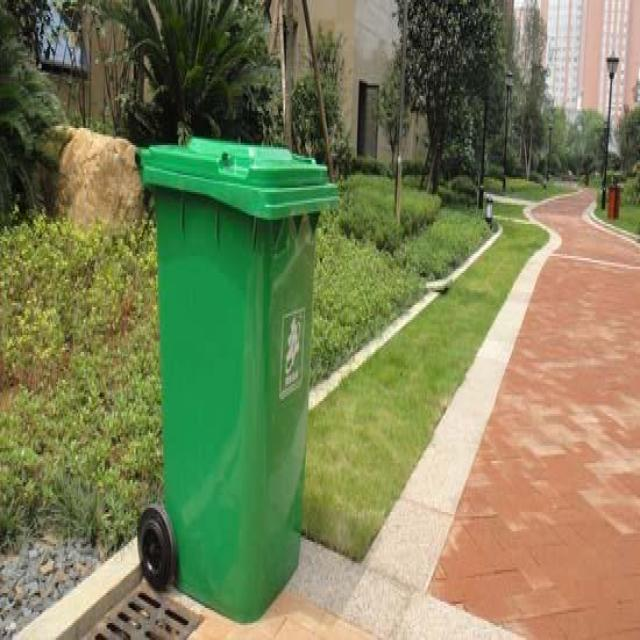garbage_bin: (132, 134, 338, 623)
